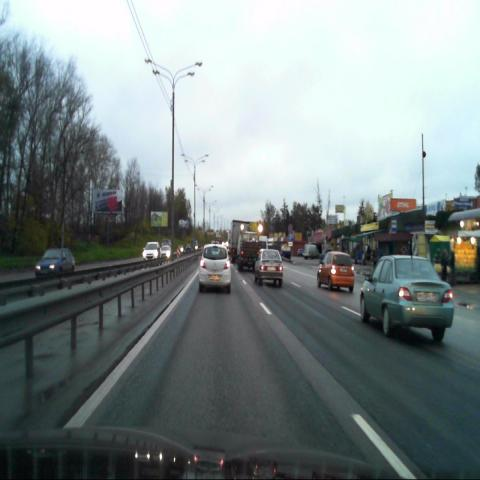5_16: (391, 218, 397, 234)
